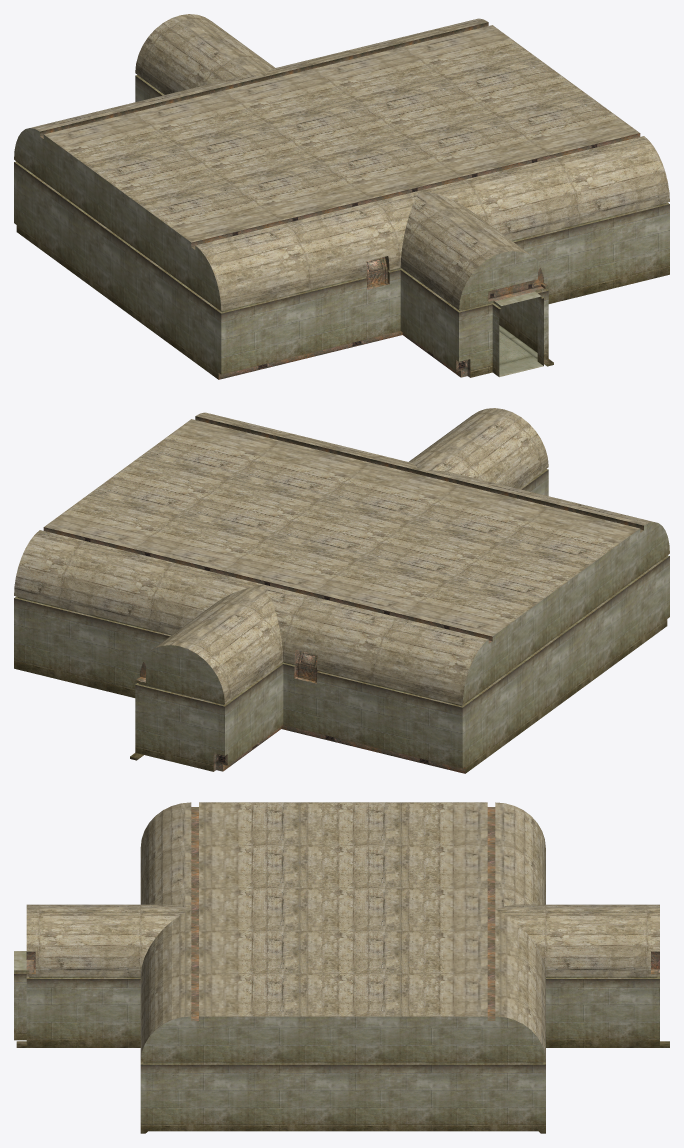
The model's file is poi_all_bunker_allum_mine_r15_smallroom15_mesh_r15.fbx.
3 renders of one model, top to bottom at view 1: azimuth 30°, elevation 25°; view 2: azimuth 150°, elevation 25°; view 3: azimuth 270°, elevation 25°, orthographic. The views are drawn at different scales.
Visible parts, largest first — view 1: mesh_node; view 2: mesh_node; view 3: mesh_node.
Part boxes in pixels (bbox=[...]): mesh_node: bbox=[14, 14, 669, 379]; mesh_node: bbox=[14, 408, 669, 773]; mesh_node: bbox=[14, 802, 669, 1133].
Size of the model in its own units: 20 by 5.1 by 25.9.
